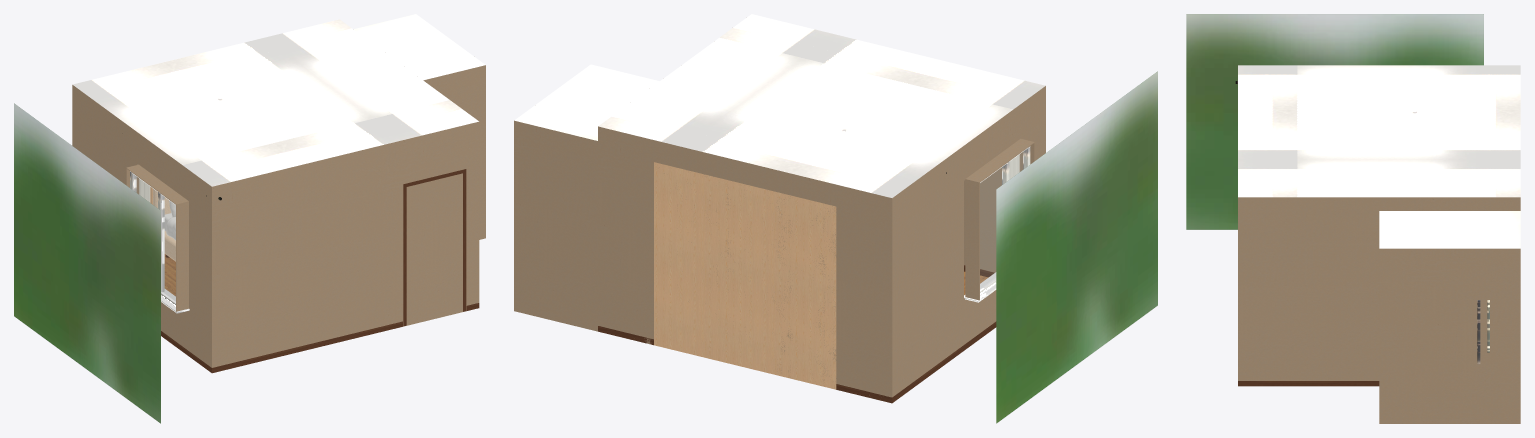
Rendered from room.glb.
The picture shows the model from 3 angles, left to right: view 1: azimuth 30°, elevation 25°; view 2: azimuth 150°, elevation 25°; view 3: azimuth 270°, elevation 25°; orthographic projection. The views are drawn at different scales.
Visible parts, largest first — view 1: Shell_Front Wall, Shell_Ceiling, Garden, Shell_Left Wall, Shell_Closet Ceiling, LM_Window, Shell_Closet Front Wall, Window Glass, LM_Skirting, LM_Door, LM_Bed; view 2: Shell_Ceiling, Garden, LM_Panel, Shell_Back Wall, Shell_Left Wall, Shell_Closet Back Wall, Shell_Closet Ceiling, LM_Window, Window Glass, Shell_Front Wall, LM_Skirting; view 3: Shell_Ceiling, Shell_Right Wall, Shell_Closet Far Wall, Garden, Shell_Closet Ceiling, LM_Skirting, LM_Closet.
Boxes of the visible parts, x1,y1,x2,y2 form: Shell_Front Wall: [212, 121, 479, 367]; Shell_Ceiling: [72, 19, 478, 186]; Garden: [14, 103, 160, 423]; Shell_Left Wall: [72, 85, 211, 367]; Shell_Closet Ceiling: [354, 14, 485, 80]; LM_Window: [126, 164, 221, 313]; Shell_Closet Front Wall: [423, 65, 485, 239]; Window Glass: [135, 176, 175, 300]; LM_Skirting: [161, 303, 479, 373]; LM_Door: [403, 169, 466, 326]; LM_Bed: [153, 188, 175, 261]; Shell_Ceiling: [598, 14, 1045, 197]; Garden: [996, 71, 1157, 423]; LM_Panel: [654, 162, 836, 389]; Shell_Back Wall: [598, 126, 892, 397]; Shell_Left Wall: [892, 86, 1045, 396]; Shell_Closet Back Wall: [514, 120, 597, 331]; Shell_Closet Ceiling: [514, 64, 659, 140]; LM_Window: [946, 138, 1034, 302]; Window Glass: [980, 151, 1024, 288]; Shell_Front Wall: [964, 167, 1001, 272]; LM_Skirting: [598, 265, 996, 403]; Shell_Ceiling: [1238, 65, 1520, 197]; Shell_Right Wall: [1238, 197, 1520, 380]; Shell_Closet Far Wall: [1379, 248, 1520, 423]; Garden: [1186, 14, 1483, 229]; Shell_Closet Ceiling: [1379, 211, 1520, 248]; LM_Skirting: [1238, 381, 1379, 386]; LM_Closet: [1477, 300, 1489, 364].
Bounding box in the file's own units: 6.62 × 3.2 × 4.49.
Materials: 57 (30 with a texture image).
